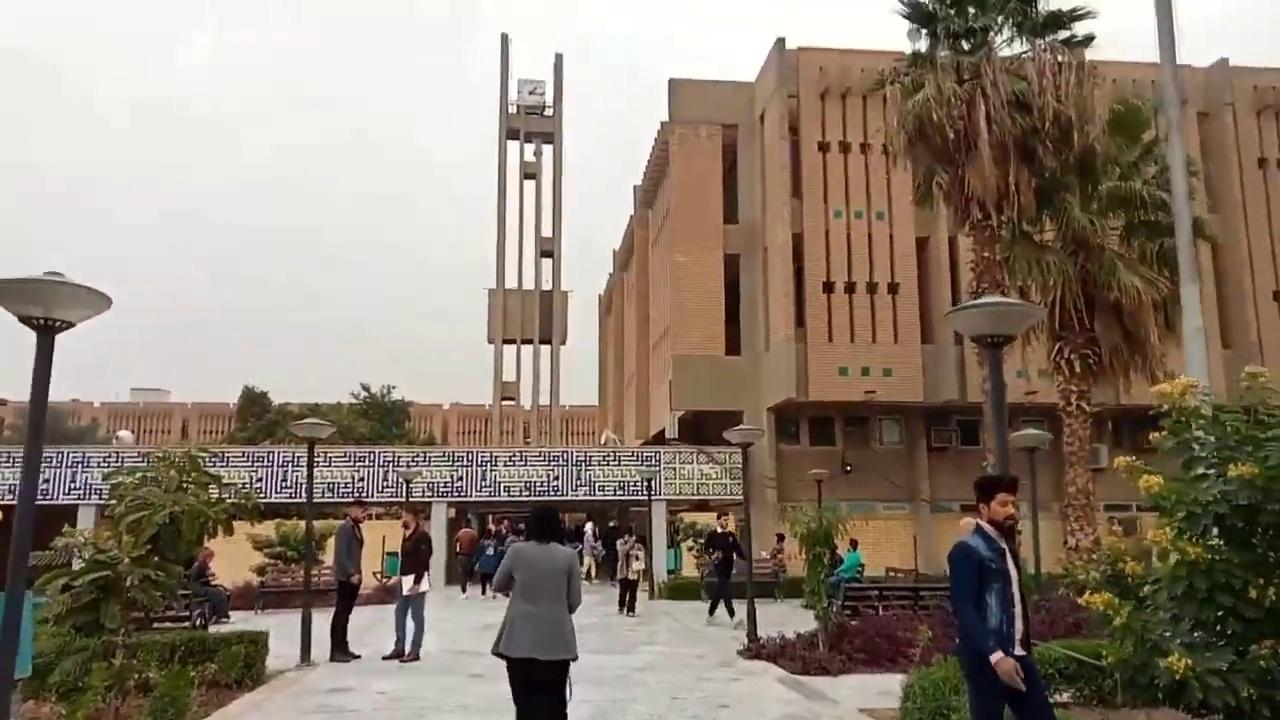person: (946, 472, 1058, 719), (490, 503, 582, 719), (381, 503, 432, 662), (329, 499, 369, 662), (702, 511, 746, 621), (187, 546, 233, 623), (825, 537, 865, 608), (769, 532, 788, 602)
tree: (865, 0, 1219, 576), (1057, 362, 1279, 718), (16, 444, 267, 718), (218, 380, 436, 447), (777, 495, 854, 651), (245, 517, 337, 583), (346, 381, 412, 445), (220, 383, 278, 446), (676, 518, 715, 576)
